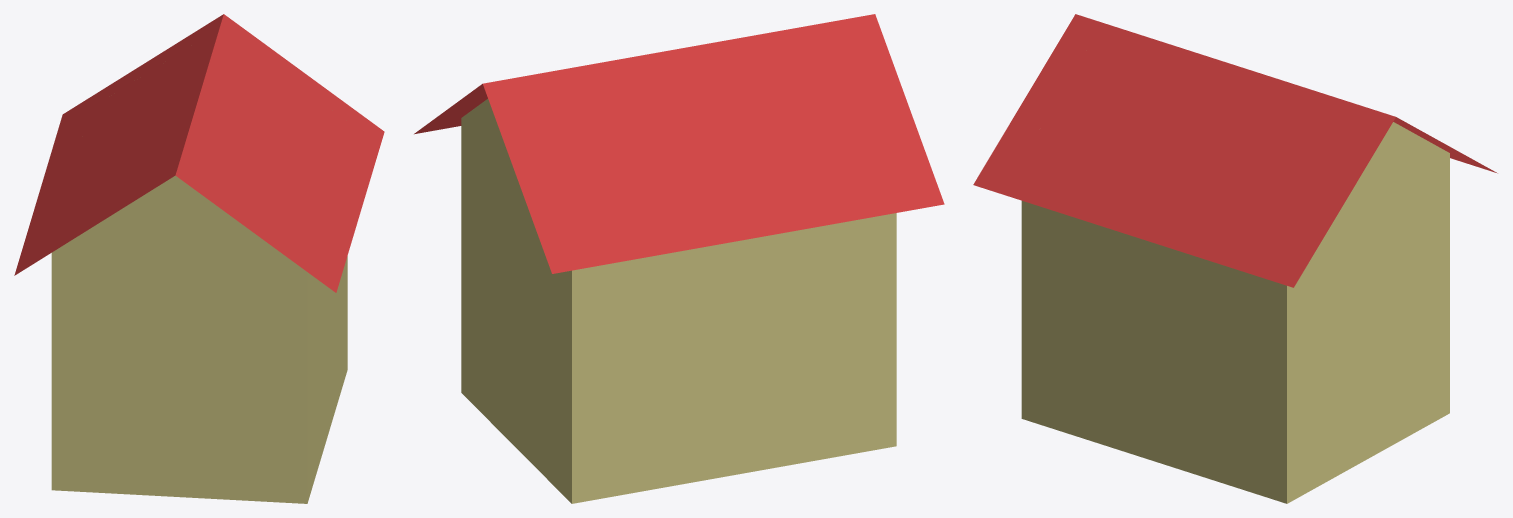
3 views of the same model, side by side, from view 1: azimuth 30°, elevation 25°; view 2: azimuth 150°, elevation 25°; view 3: azimuth 270°, elevation 25° (orthographic). The views are drawn at different scales.
Size of the model in its own units: 11.08 by 11.34 by 8.35.
